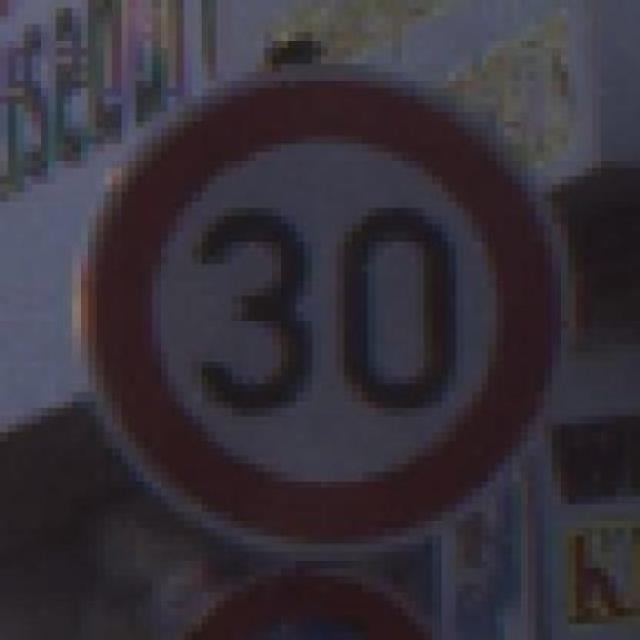Speed Limit 30 KMPh: (64, 72, 576, 512)
